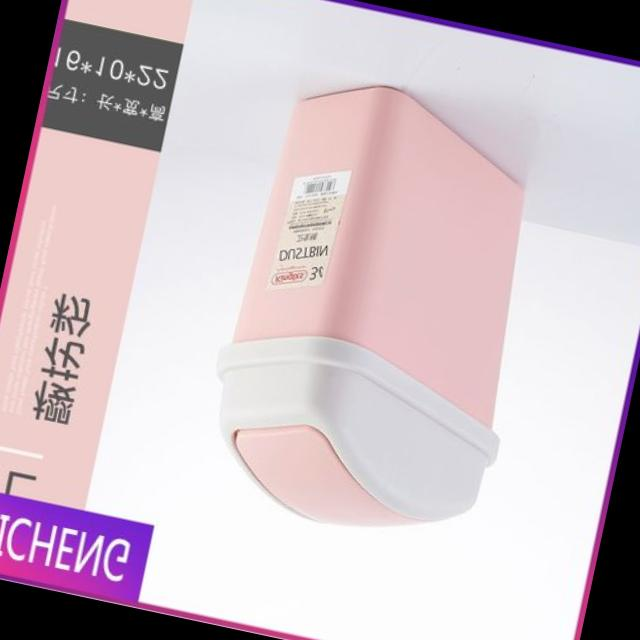dustbin: (182, 58, 570, 561)
